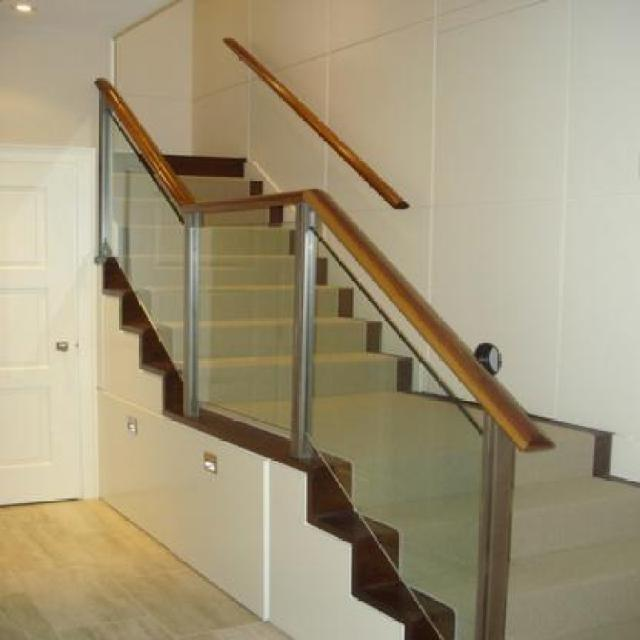stair: (80, 116, 598, 639)
